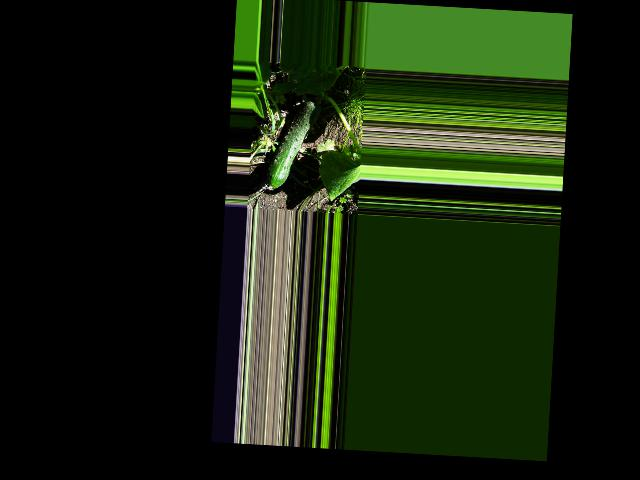cucumber: (265, 96, 321, 192)
